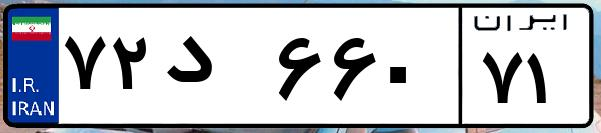0: (385, 28, 445, 110)
1: (525, 38, 570, 115)
2: (110, 28, 158, 98)
6: (270, 28, 330, 110), (330, 28, 385, 110)
7: (57, 26, 110, 100), (475, 38, 525, 113)
د: (158, 20, 270, 120)
